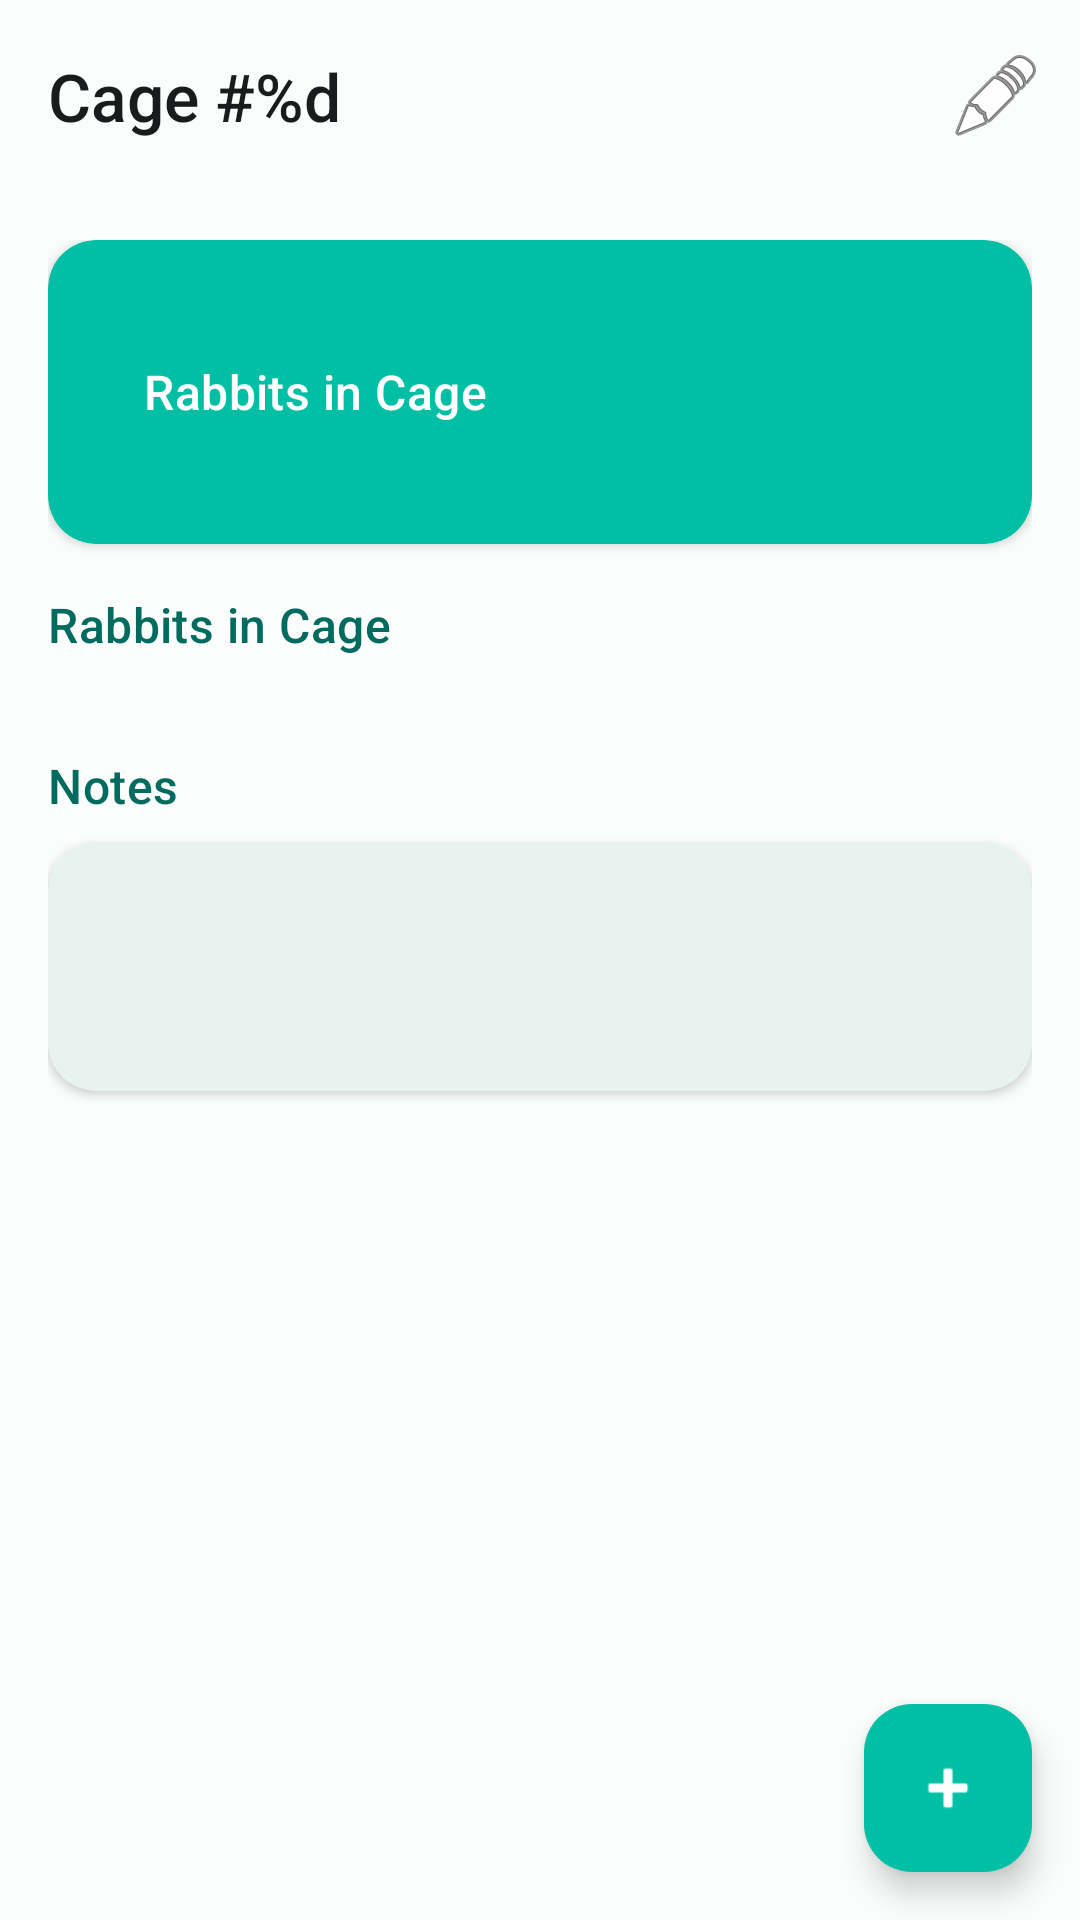

Locate icon controls on the screen. Image size 1080x1920, boxes as (x1, y1, x2, y2).
Add Rabbit: (864, 1704, 1032, 1872)
